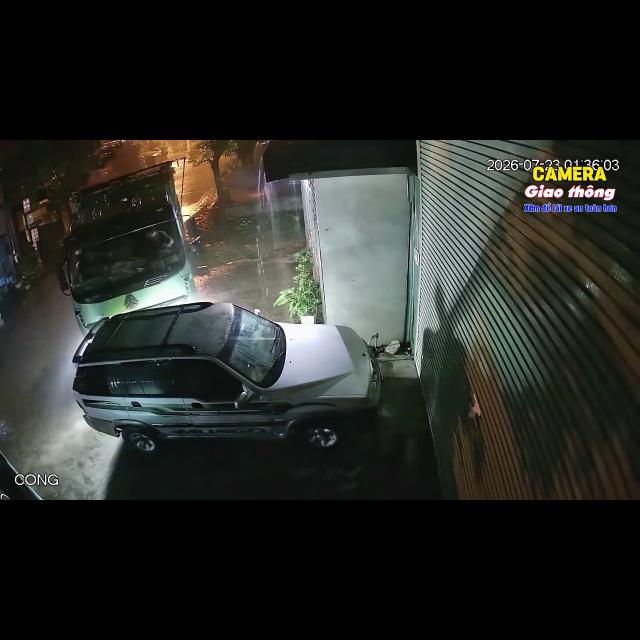car: (73, 302, 382, 452)
truck: (58, 161, 198, 333)
